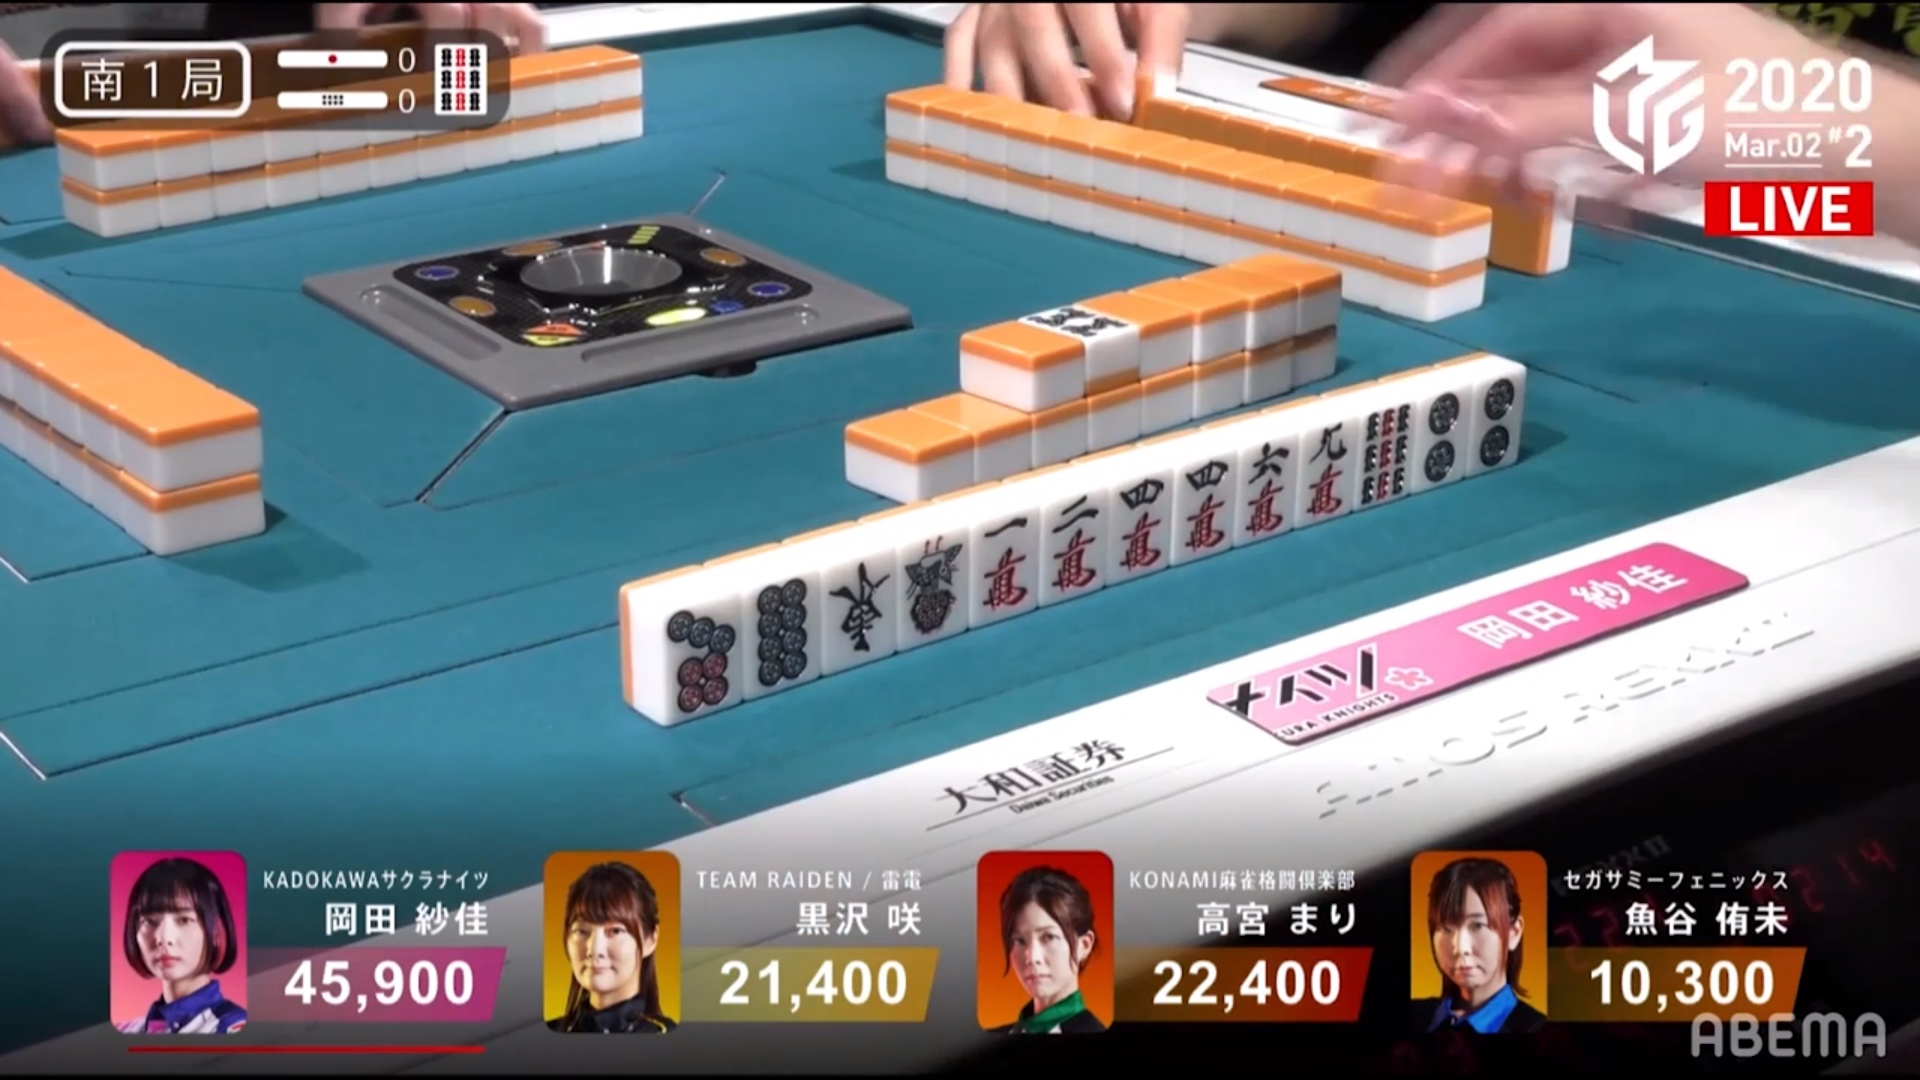1m: (972, 501, 1036, 622)
1s: (897, 527, 967, 649)
2m: (1043, 491, 1100, 601)
2p: (1470, 367, 1523, 475), (1415, 377, 1464, 493)
4m: (1104, 465, 1168, 585), (1171, 450, 1236, 564)
6m: (1236, 430, 1298, 545)
7p: (650, 588, 741, 723)
8p: (742, 574, 814, 688)
9m: (1295, 411, 1348, 526)
9s: (1352, 396, 1412, 505)
hand_nan_1: (50, 36, 260, 123)
round_0: (266, 80, 421, 124)
team_kadokawa: (1197, 622, 1453, 752)
ton: (820, 551, 895, 669)
